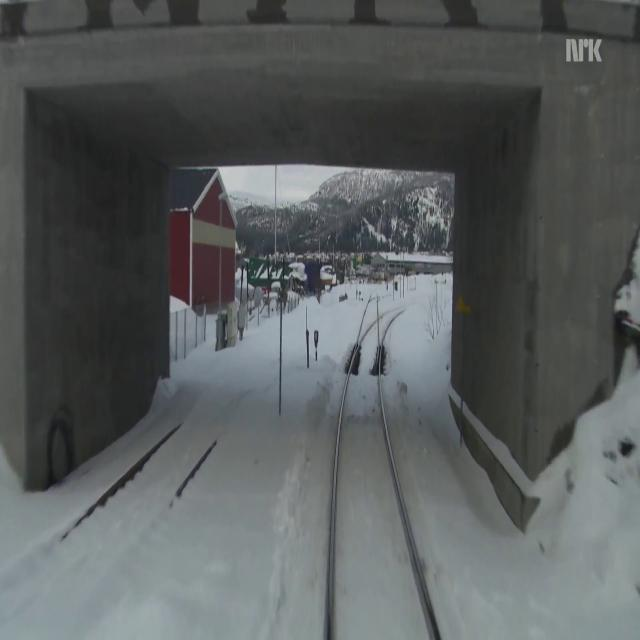rail-track: (0, 426, 211, 639), (332, 323, 435, 639), (359, 294, 376, 340), (379, 309, 401, 343)
